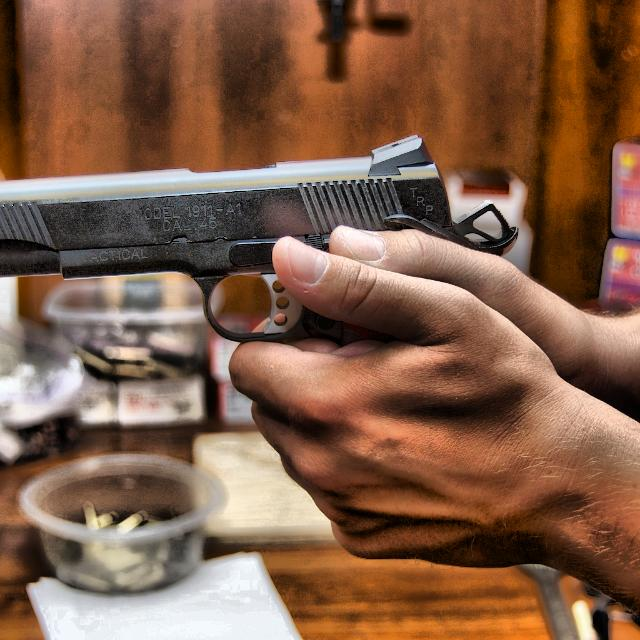pistol: (0, 134, 528, 360)
